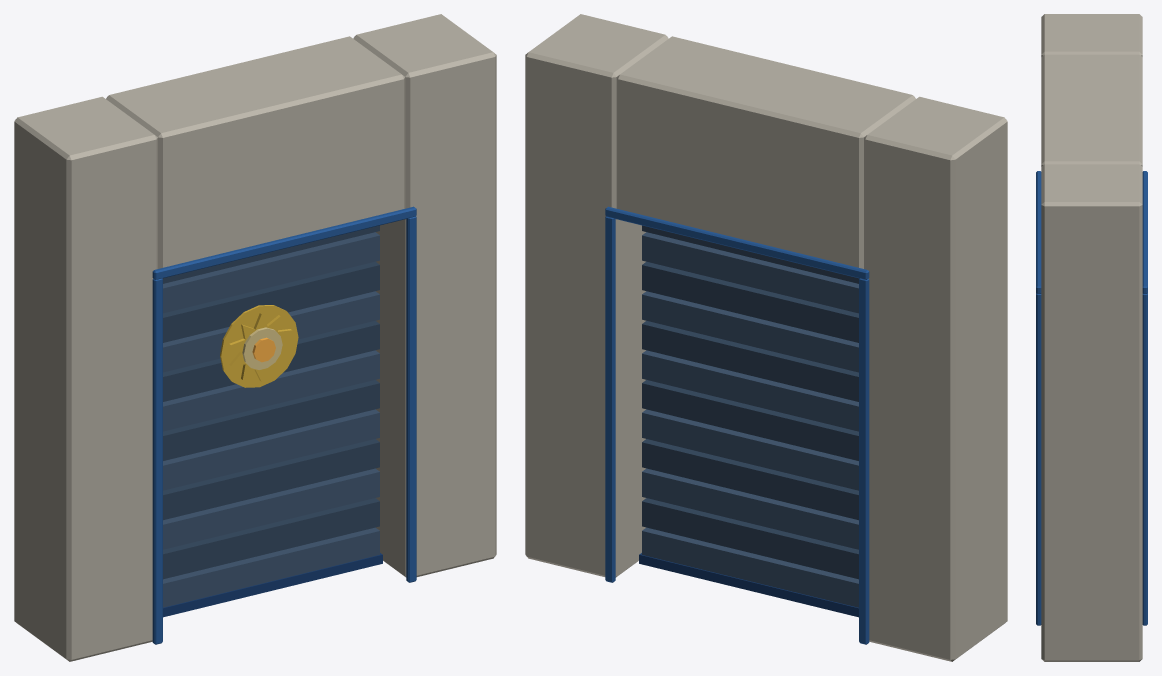
Rendered from door.fbx.
3 views of the same model, side by side, from view 1: azimuth 30°, elevation 25°; view 2: azimuth 150°, elevation 25°; view 3: azimuth 270°, elevation 25° (orthographic). The views are drawn at different scales.
Parts seen in each view (by area): view 1: door, Door; view 2: door, Door; view 3: door.
Part boxes in pixels (x1,y1,x2,y2): door: (14, 14, 496, 661); Door: (163, 225, 382, 617); door: (525, 14, 1007, 661); Door: (639, 225, 858, 617); door: (1036, 14, 1147, 661).
Size of the model in its own units: 4 by 4.5 by 0.99.
